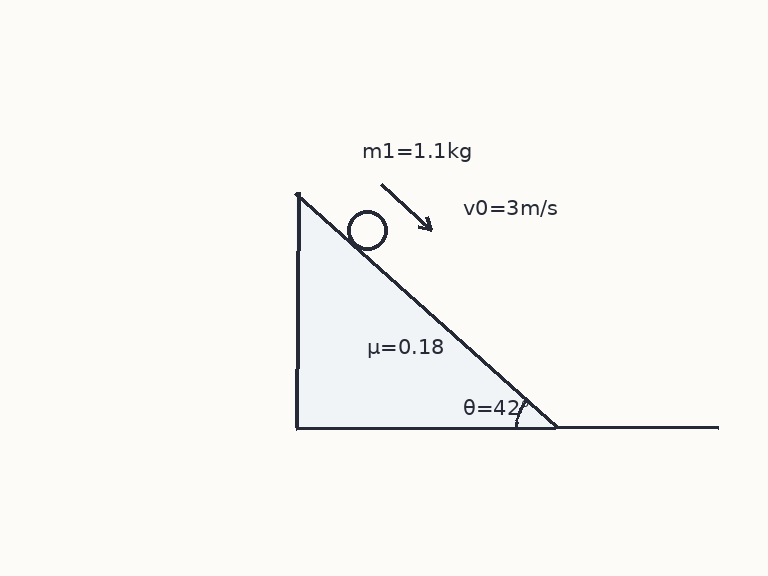ball: (345, 208, 389, 252)
ramp: (295, 191, 558, 429)
